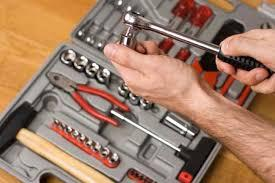wrench: (121, 8, 272, 77)
